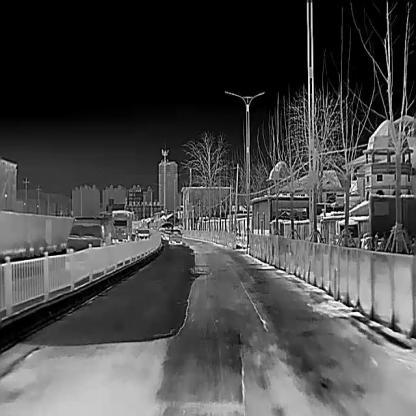car: (65, 218, 108, 267), (111, 210, 132, 243), (169, 229, 182, 245), (135, 228, 150, 240)
